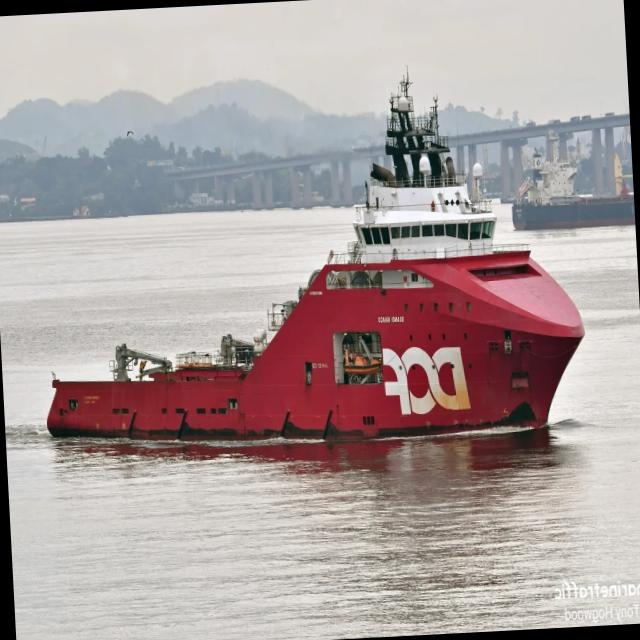Offshore: (48, 78, 585, 440)
